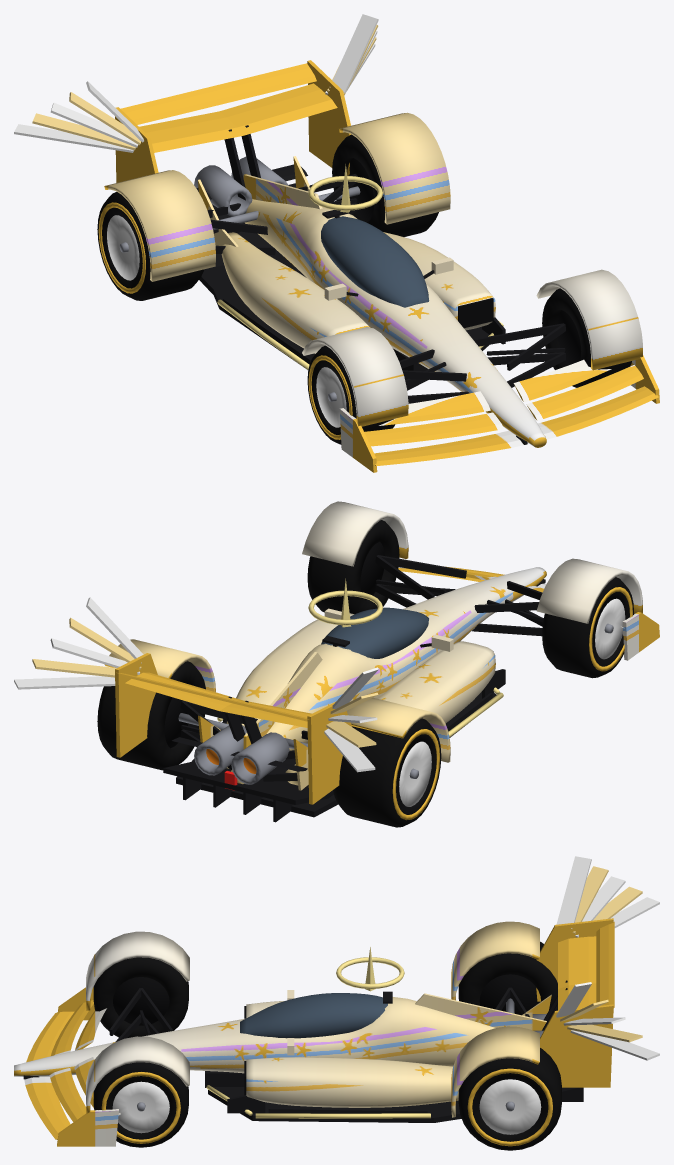
Rendered from celestial_c.fbx.
The picture shows the model from 3 angles, top to bottom: view 1: azimuth 30°, elevation 25°; view 2: azimuth 150°, elevation 25°; view 3: azimuth 270°, elevation 25°; orthographic projection. The views are drawn at different scales.
Visible parts, largest first — view 1: Body, Trim, Glass, Acc, Wheel_RL, Wheel_FL, Wheel_RR, Wheel_FR, Glow; view 2: Body, Trim, Wheel_RL, Acc, Wheel_FL, Wheel_RR, Wheel_FR, Glass, Glow; view 3: Body, Wheel_RR, Trim, Acc, Wheel_FR, Wheel_FL, Glass, Wheel_RL, Glow.
Boxes of the visible parts, bbox=[...] form: Body: bbox=[104, 60, 659, 472]; Trim: bbox=[194, 125, 565, 444]; Glass: bbox=[321, 216, 429, 307]; Acc: bbox=[14, 14, 378, 152]; Wheel_RL: bbox=[97, 192, 204, 300]; Wheel_FL: bbox=[307, 345, 395, 444]; Wheel_RR: bbox=[332, 134, 438, 236]; Wheel_FR: bbox=[542, 288, 631, 387]; Glow: bbox=[217, 164, 503, 369]; Body: bbox=[104, 501, 659, 804]; Trim: bbox=[163, 555, 545, 822]; Wheel_RL: bbox=[333, 718, 441, 827]; Acc: bbox=[14, 597, 378, 772]; Wheel_FL: bbox=[542, 577, 633, 678]; Wheel_RR: bbox=[97, 661, 205, 770]; Wheel_FR: bbox=[307, 520, 399, 614]; Glass: bbox=[321, 607, 428, 658]; Glow: bbox=[206, 578, 503, 790]; Body: bbox=[14, 918, 614, 1146]; Wheel_RR: bbox=[458, 1048, 561, 1150]; Trim: bbox=[23, 980, 583, 1122]; Acc: bbox=[556, 856, 659, 1060]; Wheel_FR: bbox=[93, 1062, 188, 1147]; Wheel_FL: bbox=[93, 957, 188, 1037]; Glass: bbox=[240, 993, 387, 1038]; Wheel_RL: bbox=[458, 941, 557, 1015]; Glow: bbox=[206, 947, 430, 1118].
Bounding box in the file's own units: 12.02 × 5.82 × 20.3.
Materials: 5 (1 with a texture image).
